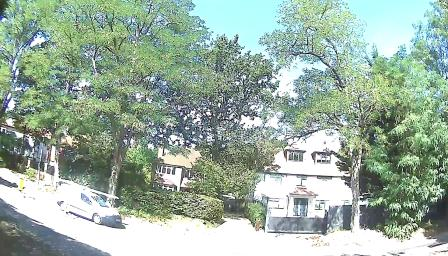Cars: (58, 178, 128, 238)
